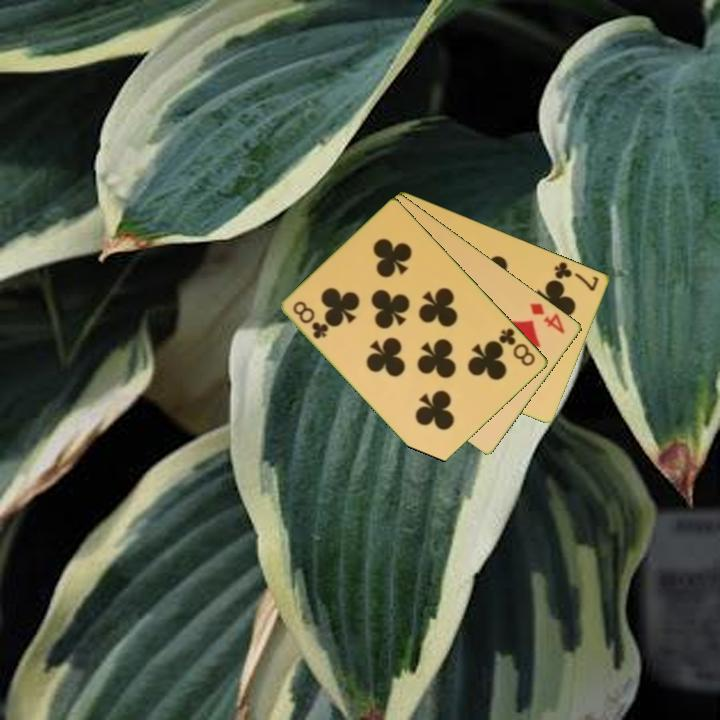4d: (527, 299, 568, 337)
7c: (551, 258, 602, 294)
8c: (495, 324, 538, 369), (290, 297, 332, 342)
